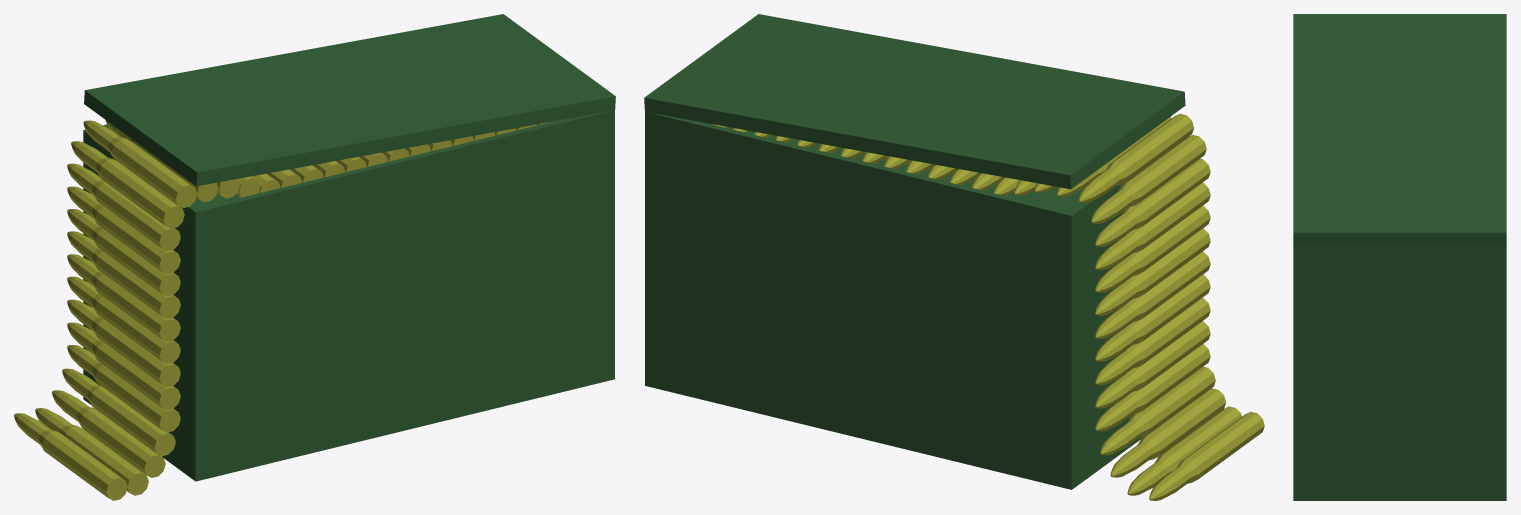
The model's file is AmmoCan.fbx.
The picture shows the model from 3 angles, left to right: view 1: azimuth 30°, elevation 25°; view 2: azimuth 150°, elevation 25°; view 3: azimuth 270°, elevation 25°; orthographic projection. The views are drawn at different scales.
Visible parts, largest first — view 1: AmmoCan; view 2: AmmoCan; view 3: AmmoCan.
Part boxes in pixels (box(x1,y1,x2,y2)): AmmoCan: box(14, 14, 615, 500); AmmoCan: box(644, 14, 1264, 500); AmmoCan: box(1293, 14, 1506, 500).
Size of the model in its own units: 1.45 by 0.8631 by 0.5602.
